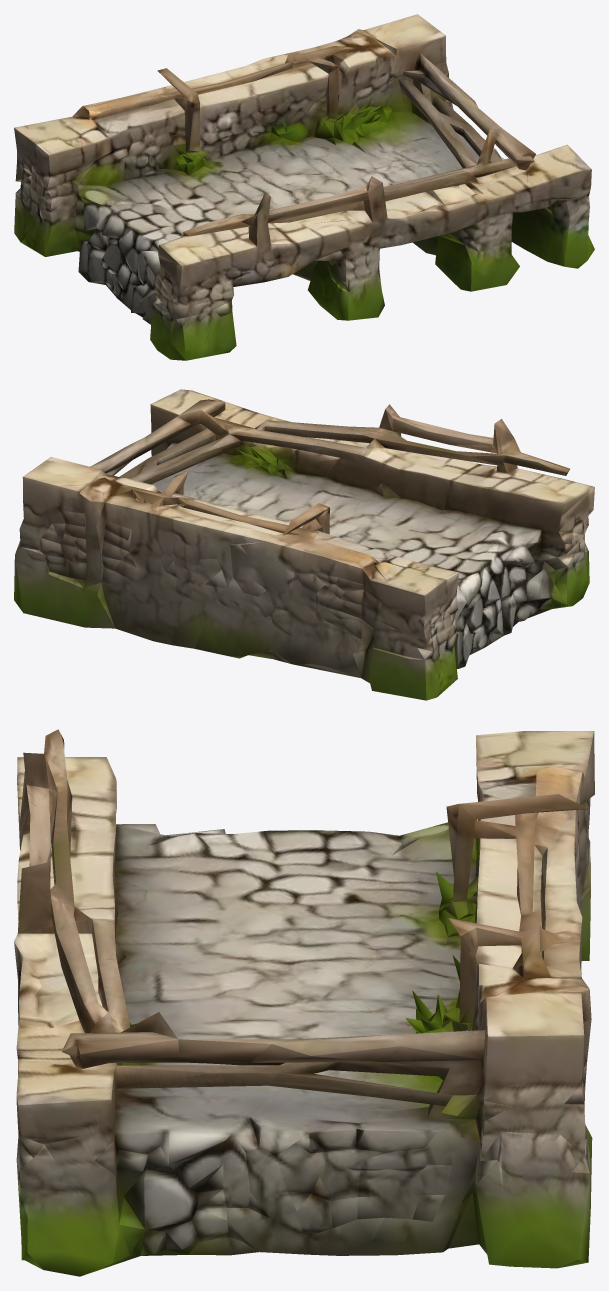
The model's file is m2BrokenBridgeEnd.glb.
3 renders of one model, top to bottom at view 1: azimuth 30°, elevation 25°; view 2: azimuth 150°, elevation 25°; view 3: azimuth 270°, elevation 25°, orthographic. The views are drawn at different scales.
Parts seen in each view (by area): view 1: model; view 2: model; view 3: model.
Part boxes in pixels (<box>): model: <box>14,14,594,360</box>; model: <box>14,389,594,700</box>; model: <box>14,729,594,1276</box>.
Size of the model in its own units: 1.9 by 0.6464 by 1.33.
Materials: 1 (1 with a texture image).
